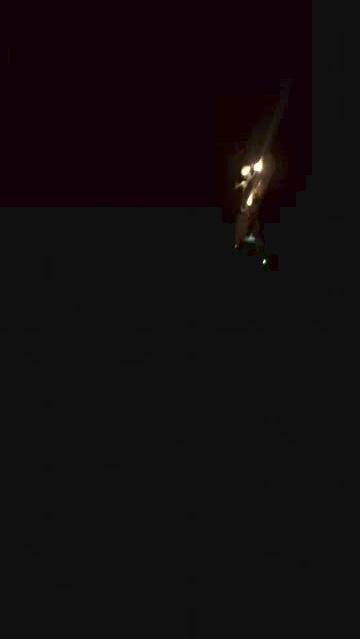Plane: (210, 115, 288, 301)
